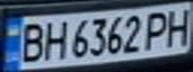2: (121, 11, 148, 53)
3: (87, 15, 109, 57)
6: (66, 16, 90, 60), (106, 12, 127, 56)
B: (12, 19, 48, 63)
H: (160, 4, 193, 47), (39, 17, 69, 61)
P: (139, 8, 172, 51)
